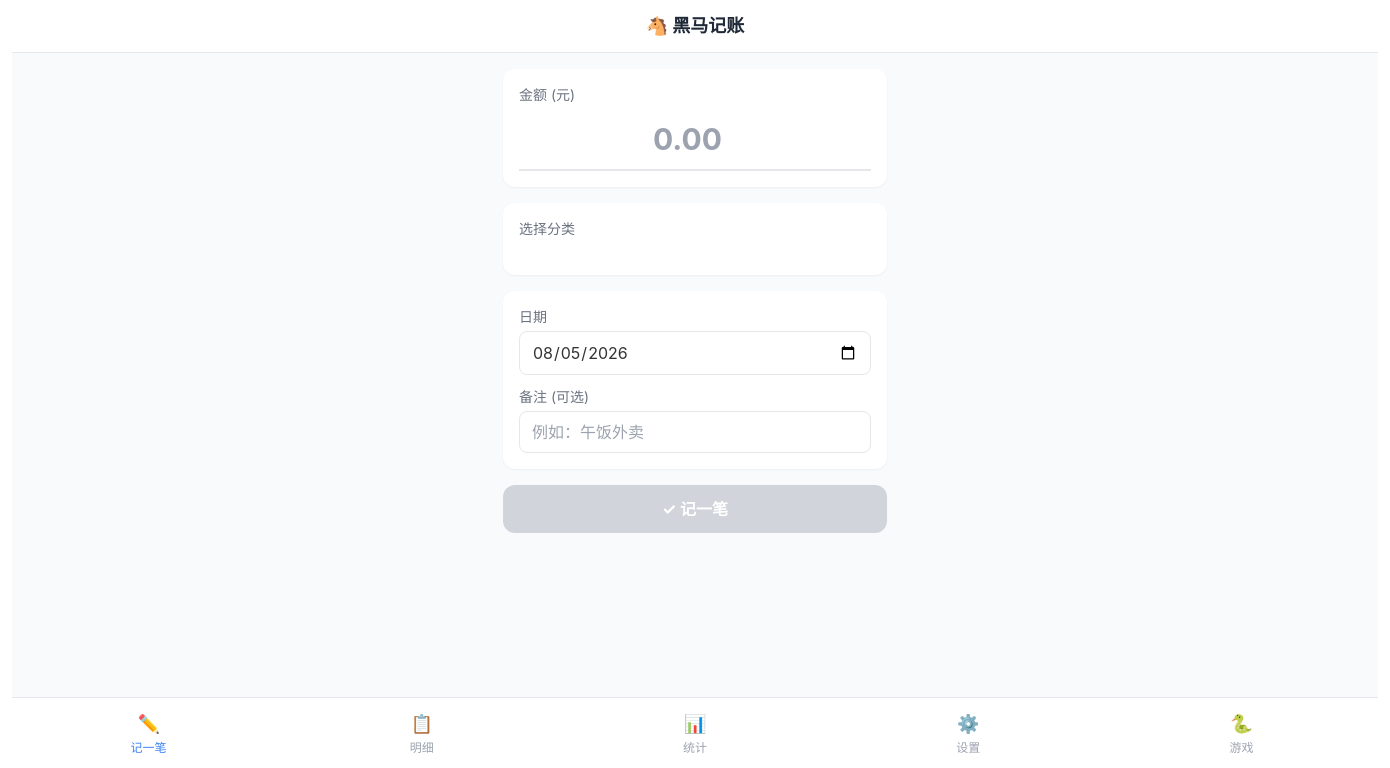
Test: App — 主界面 › 导航切换 › 点击"明细"应切换到记录列表
Click the text "明细".
click(422, 748)  # box [410,740,434,756]
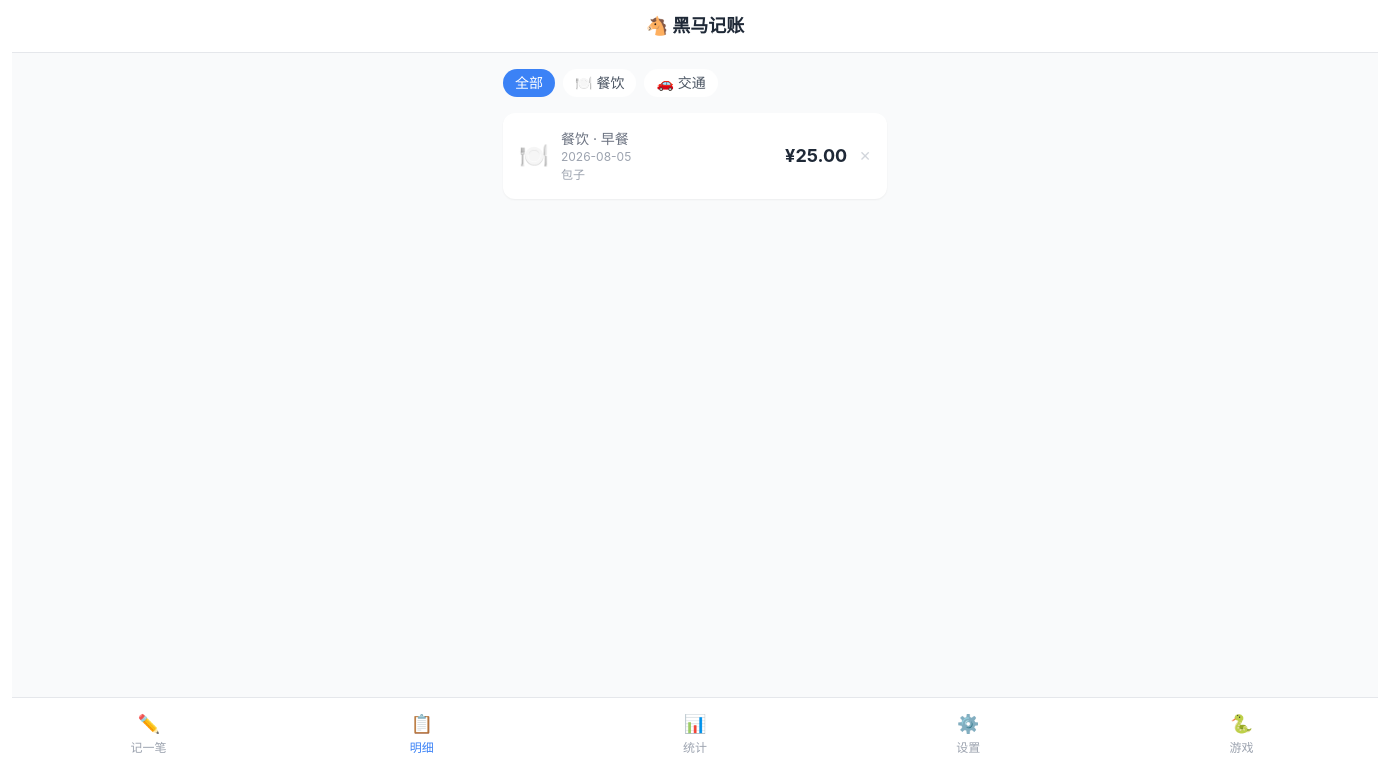
Now the button "全部" is shown, box [503,69,555,97]
